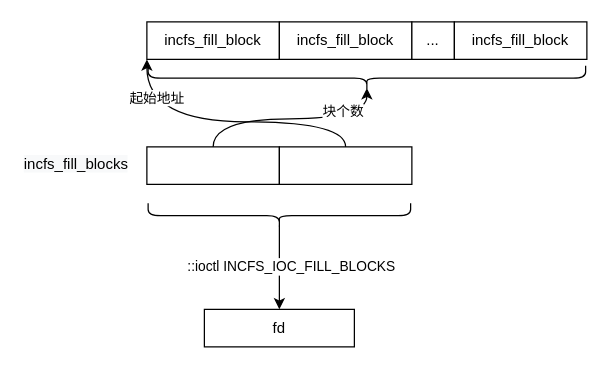
Image size: 609x369. Some labels were removed from this diagram. The shapes that lost their labels are listed below. From the top down, each one's centre as x and y in pixels, then its label:
the point at 212,165: count
the point at 345,165: fill_blocks
